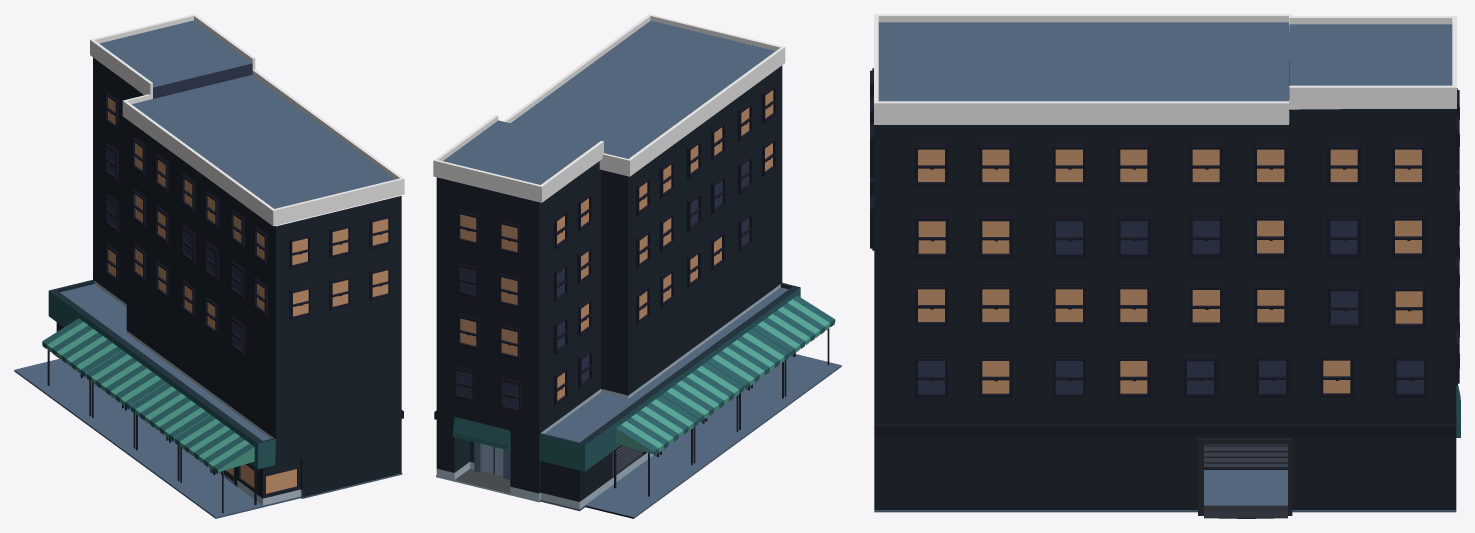
Rendered from Building_GroceryBag.fbx.
The picture shows the model from 3 angles, left to right: view 1: azimuth 30°, elevation 25°; view 2: azimuth 150°, elevation 25°; view 3: azimuth 270°, elevation 25°; orthographic projection. The views are drawn at different scales.
Parts seen in each view (by area): view 1: Cube.554, Cube.594; view 2: Cube.554, Cube.594, Cube.596; view 3: Cube.554.
Part boxes in pixels (box(x1,y1,x2,y2)): Cube.554: box(14, 14, 404, 518); Cube.594: box(42, 318, 256, 513); Cube.554: box(433, 14, 841, 518); Cube.594: box(614, 295, 835, 496); Cube.596: box(612, 445, 642, 475); Cube.554: box(870, 14, 1460, 518).
Bounding box in the file's own units: 892 × 1393 × 1734.
